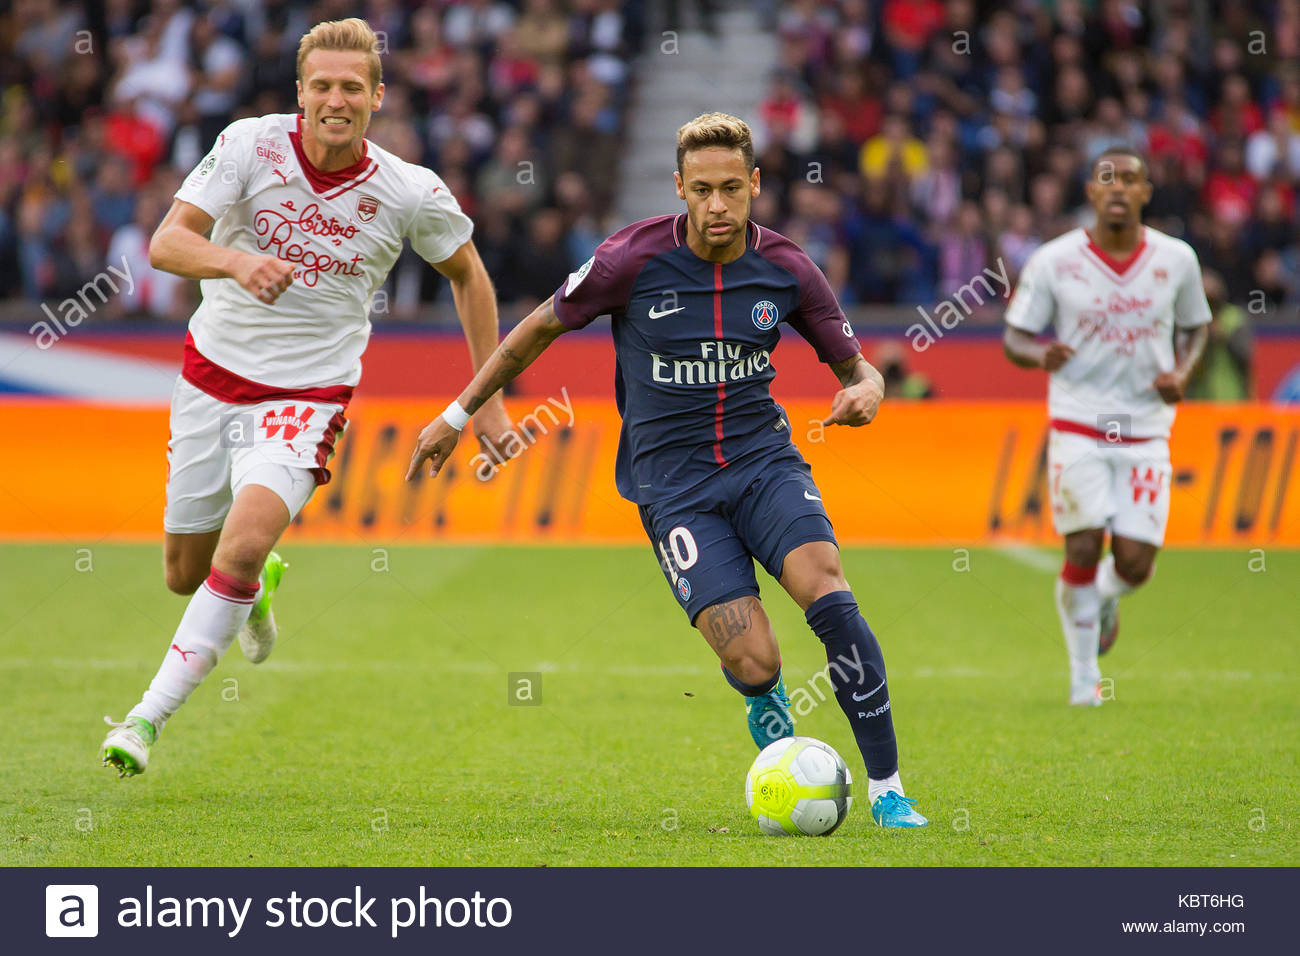soccer player: (393, 106, 938, 836), (101, 16, 529, 786), (1005, 150, 1218, 716)
soccerball: (740, 735, 856, 842)
